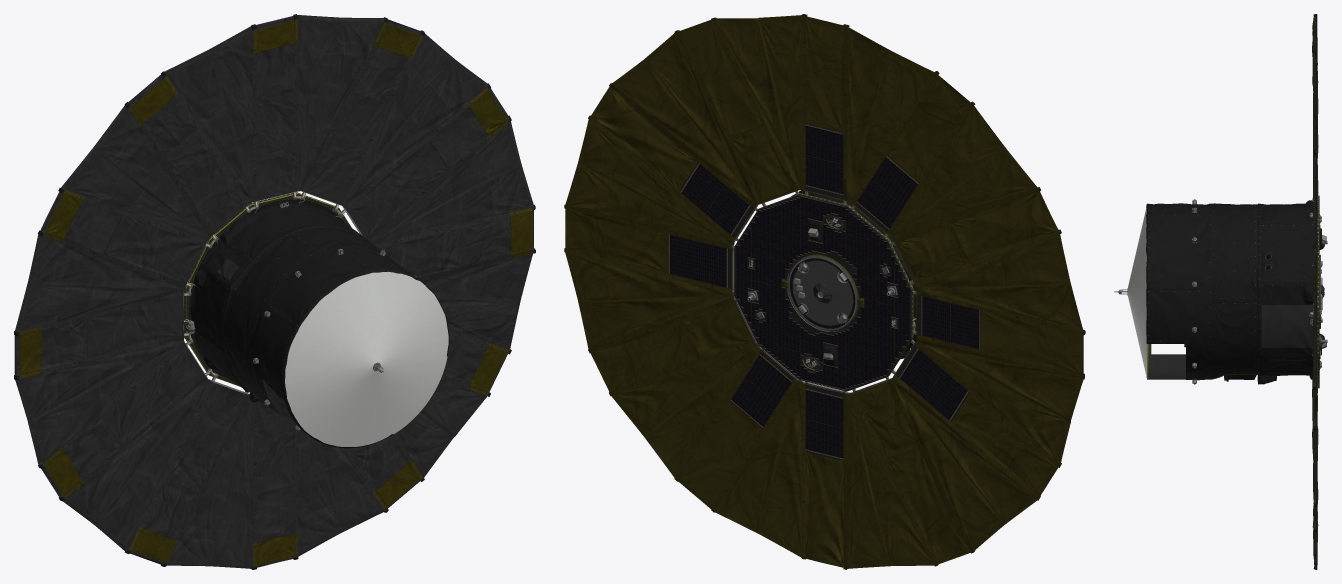
Rendered from gaia.obj.
3 views of the same model, side by side, from view 1: azimuth 30°, elevation 25°; view 2: azimuth 150°, elevation 25°; view 3: azimuth 270°, elevation 25° (orthographic). The views are drawn at different scales.
Bounding box in the file's own units: 119 × 119 × 46.02.
Materials: 5 (5 with a texture image).
